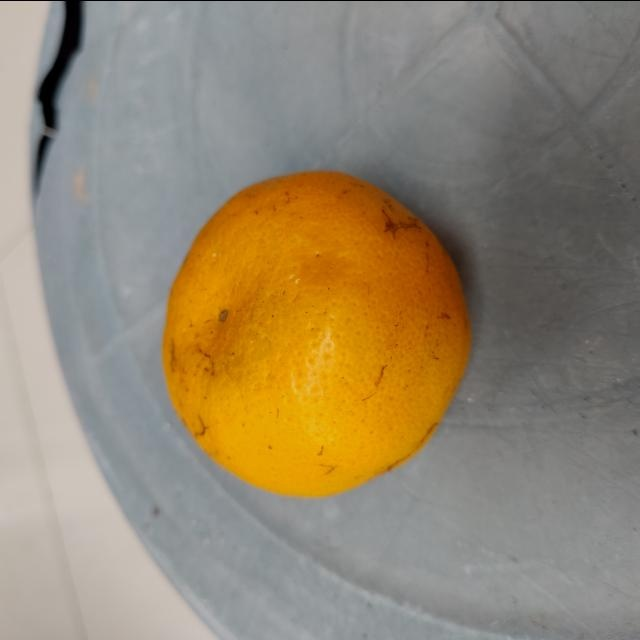agrume: (162, 164, 474, 500)
